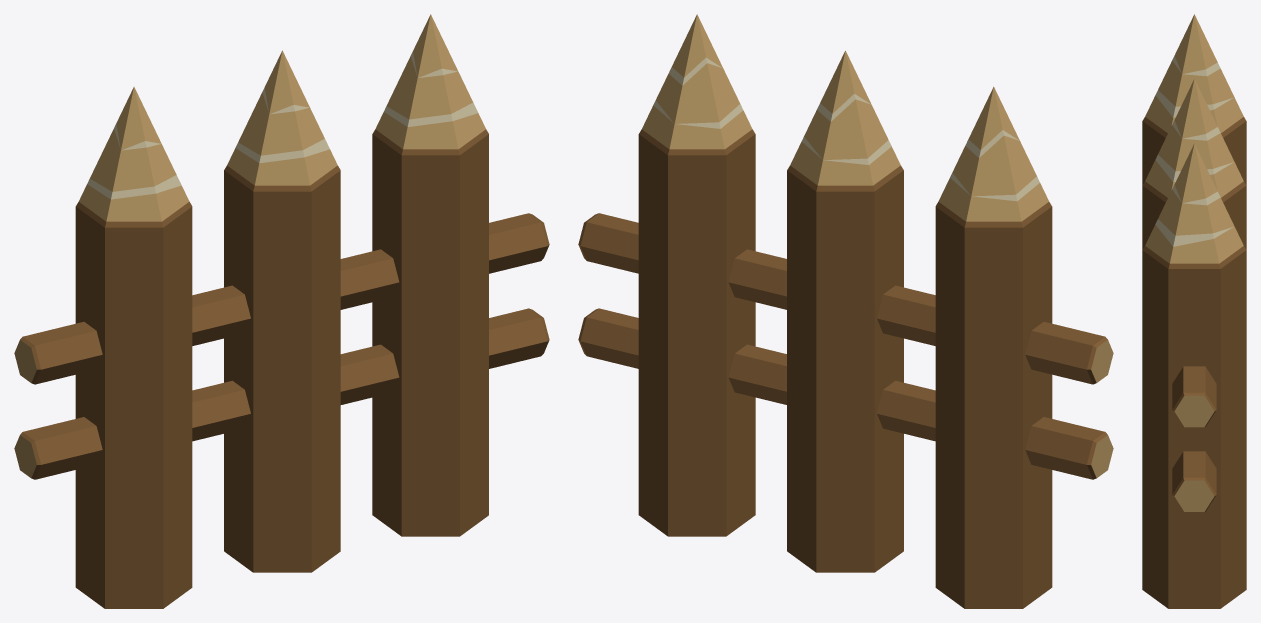
Rendered from fence_long.fbx.
The picture shows the model from 3 angles, left to right: view 1: azimuth 30°, elevation 25°; view 2: azimuth 150°, elevation 25°; view 3: azimuth 270°, elevation 25°; orthographic projection. The views are drawn at different scales.
Parts seen in each view (by area): view 1: fence_long; view 2: fence_long; view 3: fence_long.
Boxes of the visible parts, x1,y1,x2,y2 form: fence_long: (14, 14, 549, 608); fence_long: (578, 14, 1113, 608); fence_long: (1142, 14, 1246, 608).
Bounding box in the file's own units: 173 × 161 × 34.06.
